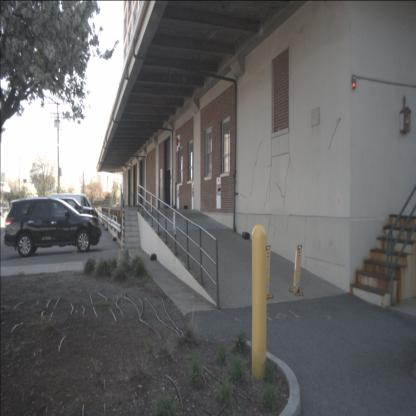vehicle-car: (4, 197, 102, 257), (48, 193, 94, 227)
vehicle-truck: (32, 198, 96, 233)
